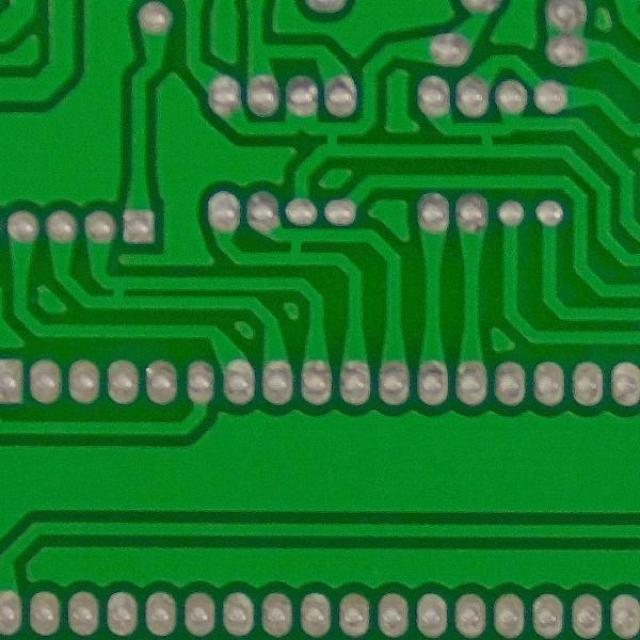Short_Circuit: (465, 119, 508, 164), (277, 224, 317, 272), (101, 270, 139, 316), (314, 118, 352, 164)
